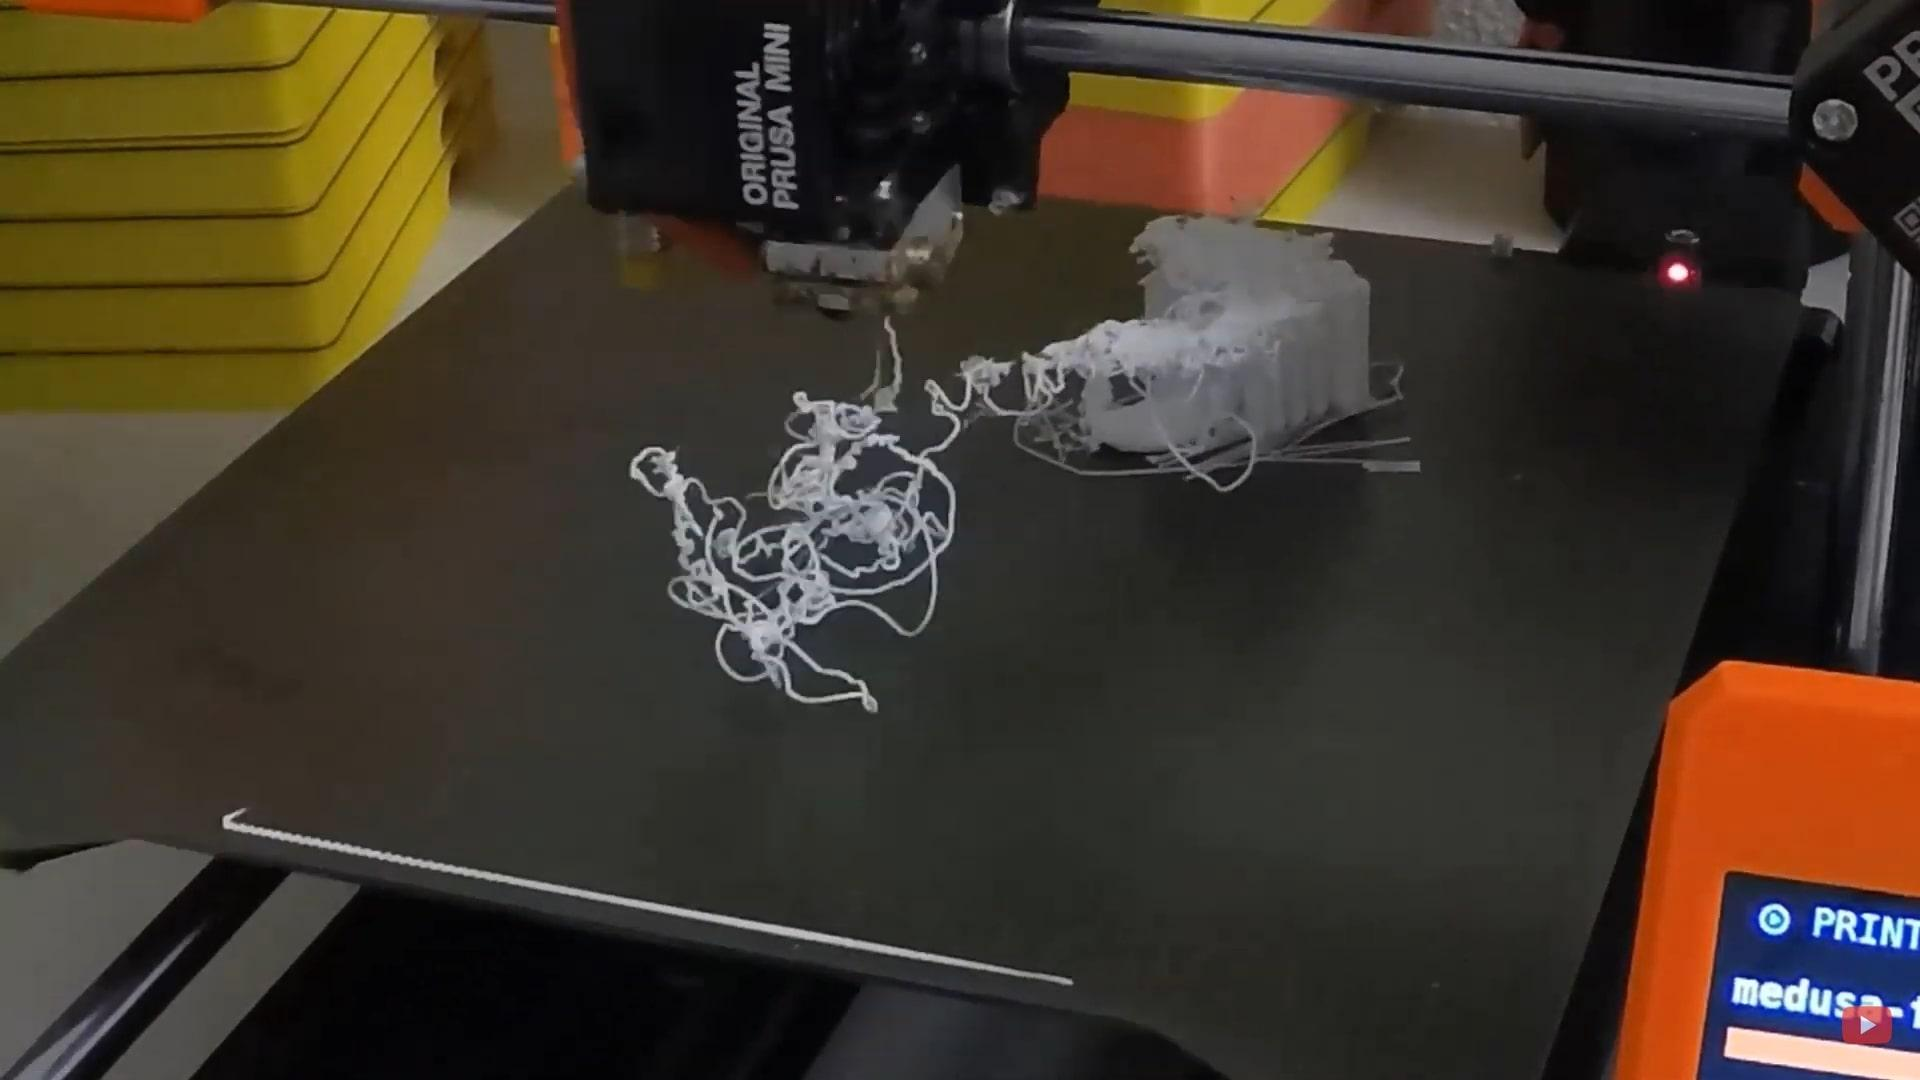Printing-Artifact: (607, 295, 1036, 724)
